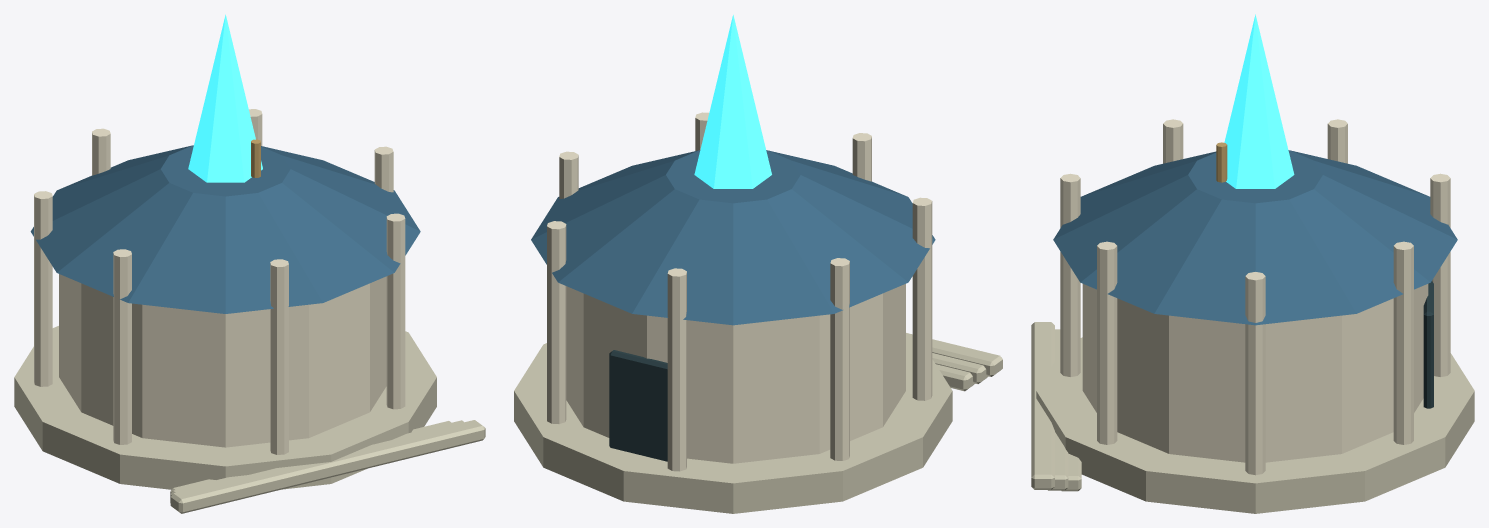
The model's file is level_19.glb.
3 views of the same model, side by side, from view 1: azimuth 30°, elevation 25°; view 2: azimuth 150°, elevation 25°; view 3: azimuth 270°, elevation 25° (orthographic). The views are drawn at different scales.
Visible parts, largest first — view 1: mage_guild — level 19; view 2: mage_guild — level 19; view 3: mage_guild — level 19.
Part boxes in pixels (<box>): mage_guild — level 19: <box>14,14,485,513</box>; mage_guild — level 19: <box>514,15,1002,513</box>; mage_guild — level 19: <box>1031,14,1474,513</box>.
Size of the model in its own units: 5.2 by 5.33 by 5.26.
